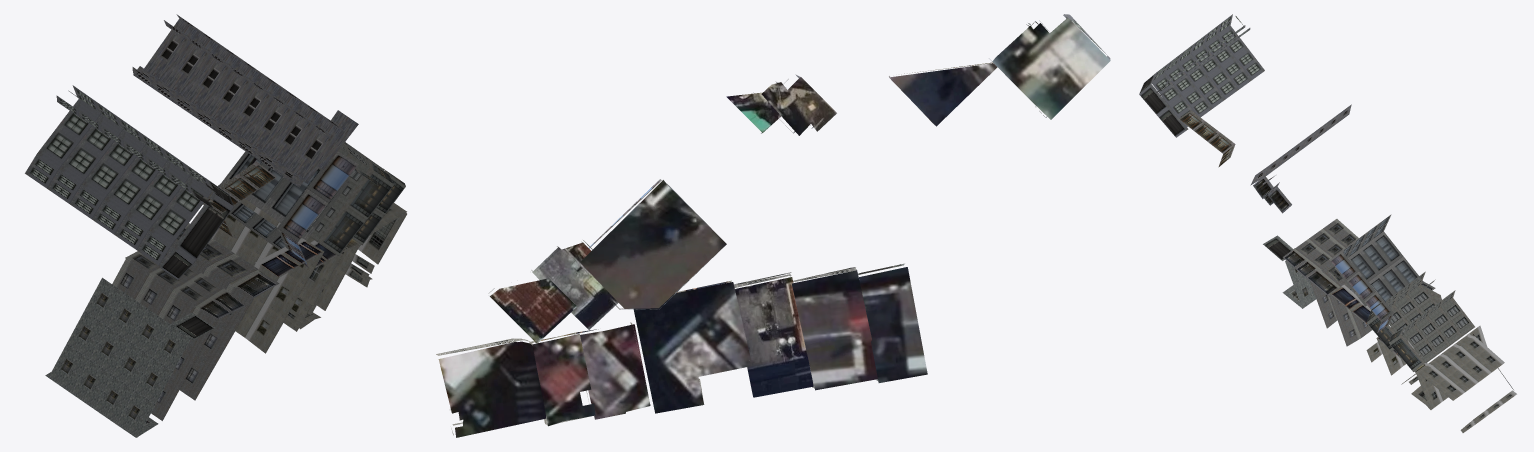
The model's file is tile_LOD4_r2_c7.glb.
3 renders of one model, left to right at view 1: azimuth 30°, elevation 25°; view 2: azimuth 150°, elevation 25°; view 3: azimuth 270°, elevation 25°, orthographic. The views are drawn at different scales.
Size of the model in its own units: 81.5 by 61.5 by 77.
Materials: 42 (42 with a texture image).
